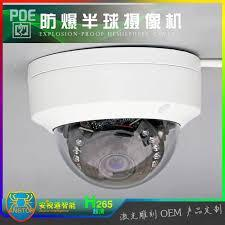maru: (30, 103, 201, 188)
